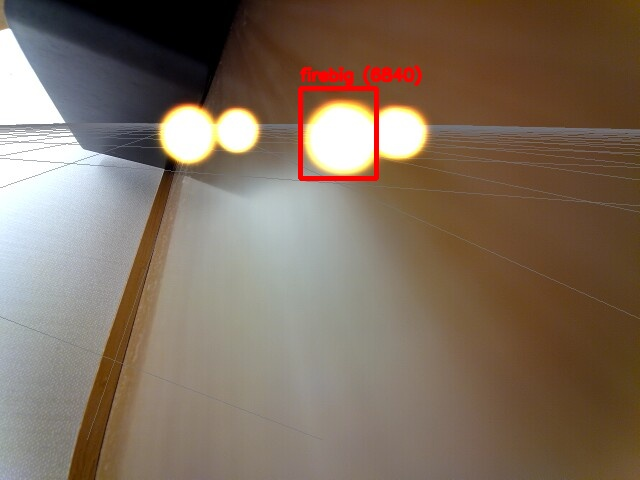firebig: (300, 88, 376, 178)
